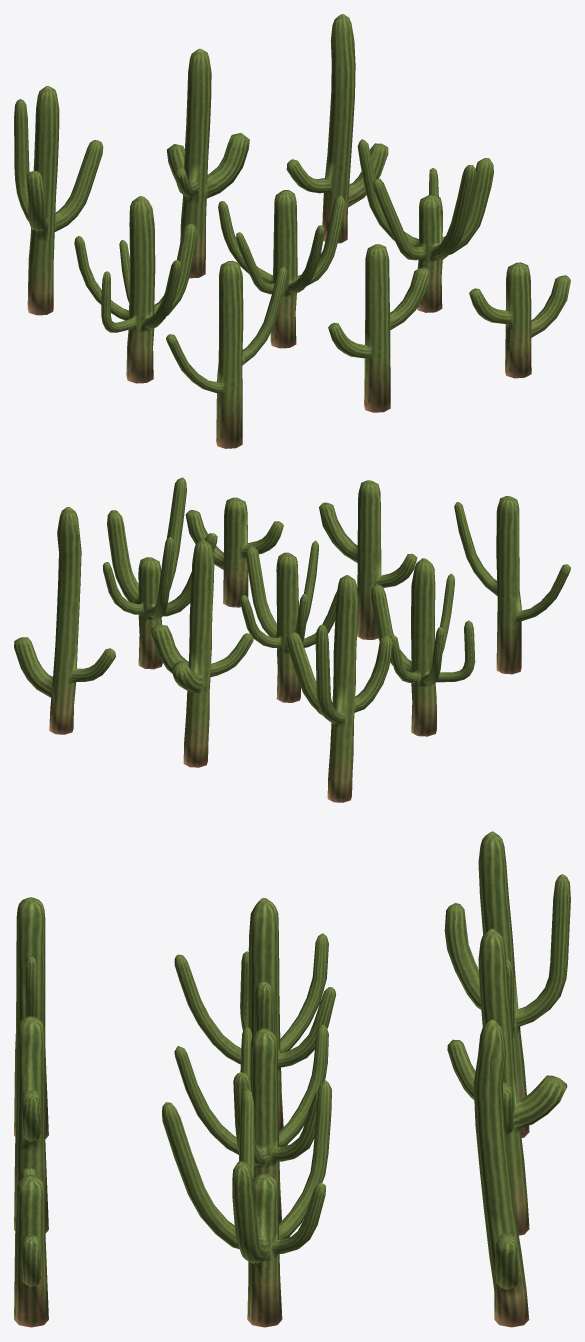
Rendered from Cactus.fbx.
The picture shows the model from 3 angles, top to bottom: view 1: azimuth 30°, elevation 25°; view 2: azimuth 150°, elevation 25°; view 3: azimuth 270°, elevation 25°; orthographic projection. The views are drawn at different scales.
Visible parts, largest first — view 1: cactus_9, cactus_6, cactus_4, cactus_8, cactus_5, cactus_3, cactus_7, cactus_2, cactus_1; view 2: cactus_9, cactus_6, cactus_8, cactus_7, cactus_4, cactus_5, cactus_3, cactus_2, cactus_1; view 3: cactus_4, cactus_6, cactus_5, cactus_7, cactus_9, cactus_8, cactus_2, cactus_1, cactus_3.
Part boxes in pixels (box(x1,y1,x2,y2)): cactus_9: box(14, 86, 103, 315); cactus_6: box(74, 196, 196, 383); cactus_4: box(357, 139, 493, 312); cactus_8: box(167, 48, 249, 278); cactus_5: box(218, 190, 345, 348); cactus_3: box(166, 260, 287, 448); cactus_7: box(286, 14, 388, 243); cactus_2: box(328, 244, 429, 412); cactus_1: box(469, 262, 570, 378); cactus_9: box(286, 575, 392, 802); cactus_6: box(371, 558, 475, 736); cactus_8: box(151, 540, 253, 767); cactus_7: box(14, 507, 115, 734); cactus_4: box(103, 477, 217, 669); cactus_5: box(240, 540, 337, 702); cactus_3: box(454, 496, 570, 674); cactus_2: box(319, 480, 417, 639); cactus_1: box(185, 497, 283, 607); cactus_4: box(162, 1080, 331, 1327); cactus_6: box(174, 898, 336, 1131); cactus_5: box(174, 1024, 328, 1223); cactus_7: box(473, 1019, 529, 1327); cactus_9: box(444, 831, 570, 1137); cactus_8: box(447, 928, 567, 1235); cactus_2: box(14, 1016, 48, 1232); cactus_1: box(14, 1168, 48, 1327); cactus_3: box(14, 897, 48, 1138).
Bounding box in the file's own units: 766 × 412 × 694.
